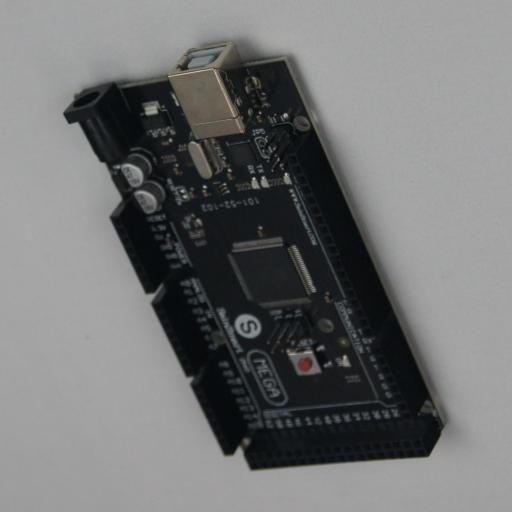Arduino Mega 2560 -Black-: (63, 44, 448, 471)
